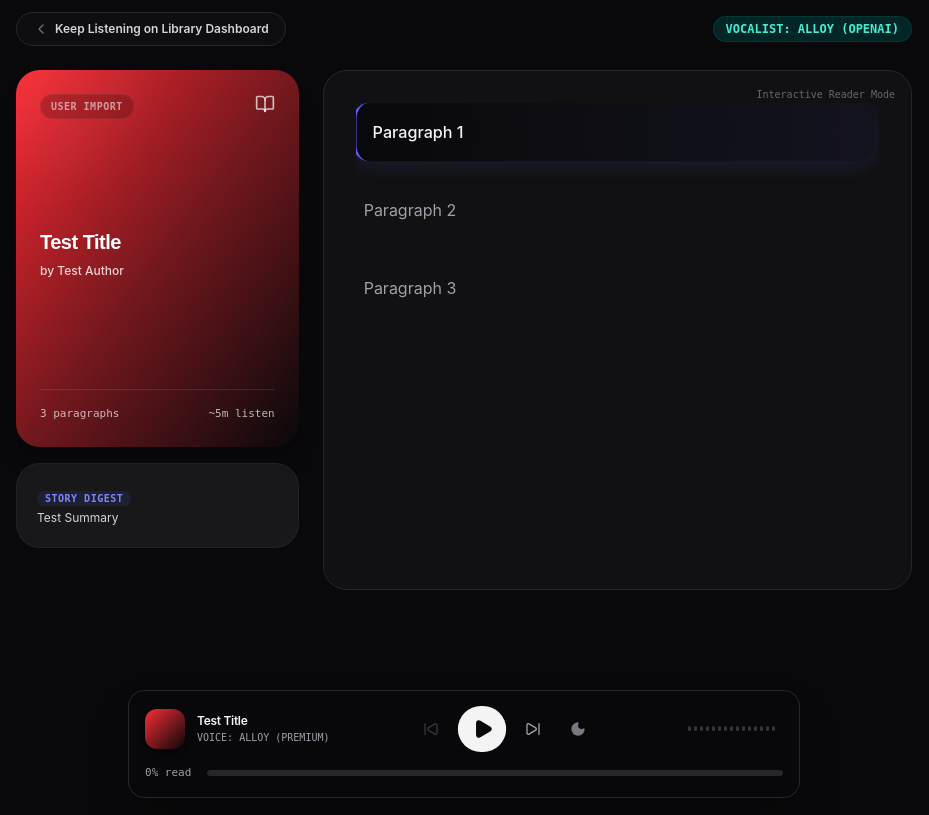
Test: BookDetailView › shows error if openai voice is selected and key is missing
Click the text "Paragraph 1".
click(613, 132)  # box [353,103,874,161]
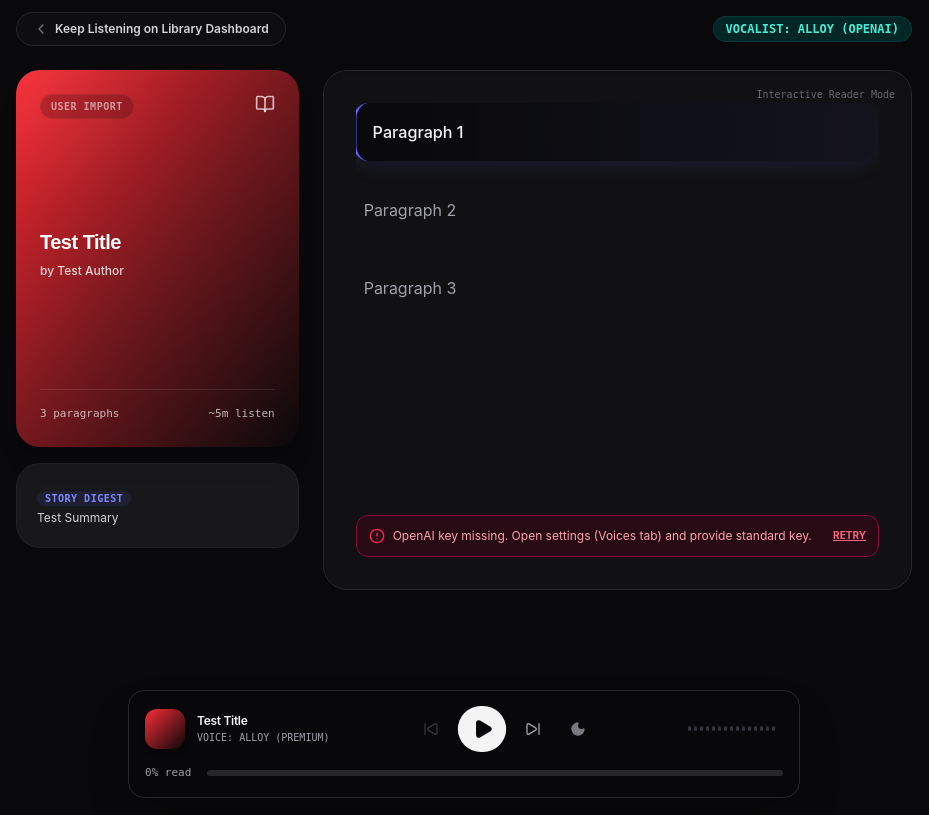
Expected: the text "OpenAI key missing" is shown, [393,528,812,543]
